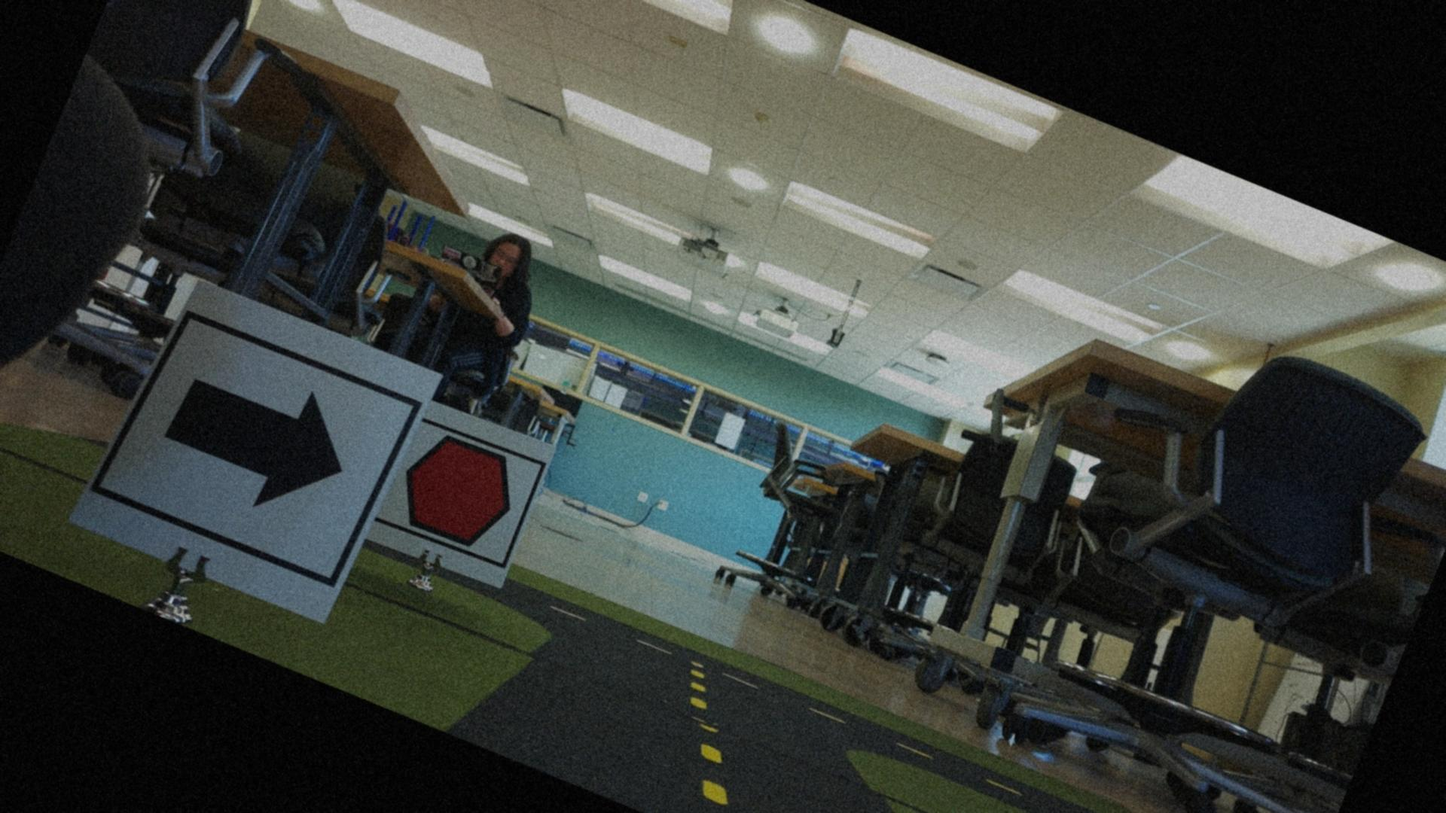stop: (377, 417, 535, 568)
turnright: (109, 314, 405, 590)
yellowline: (670, 739, 764, 812), (679, 666, 720, 714)
